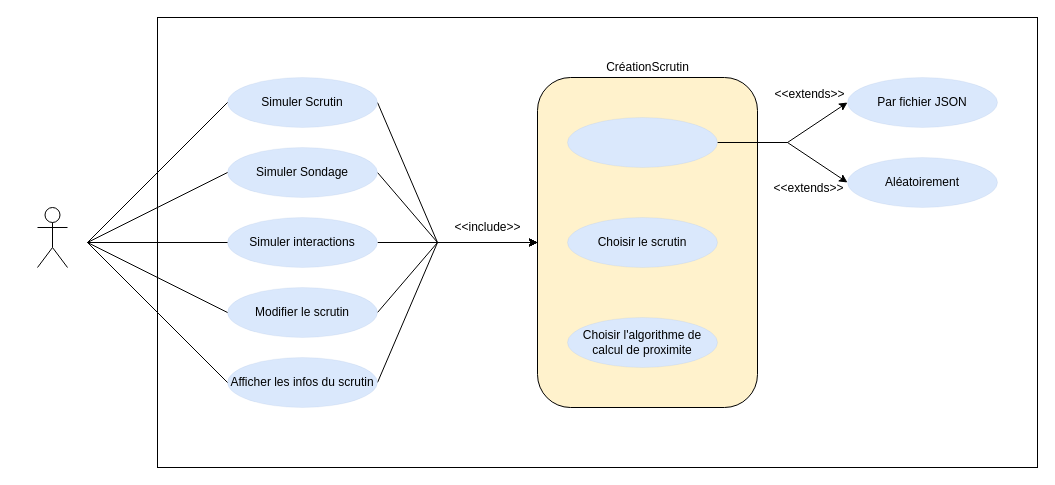
This 1055x485 diagram has some shape labels left out. Here are the shapes that lost their labels. From the top down, the centre of each, then its label:
At point (642, 142): "Ajouter les acteurs".
At point (52, 237): "Utilisateur".
